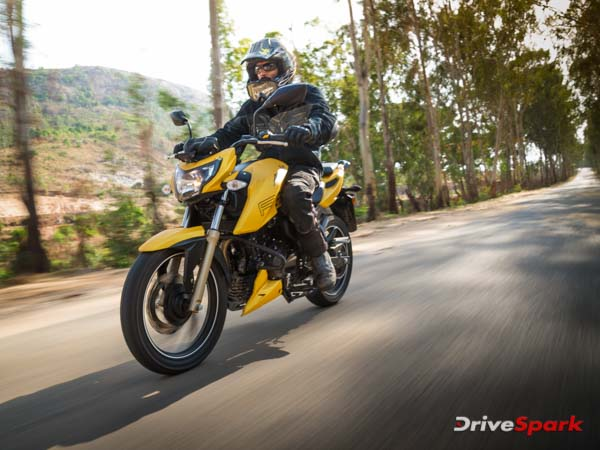helmet: (237, 39, 296, 97)
